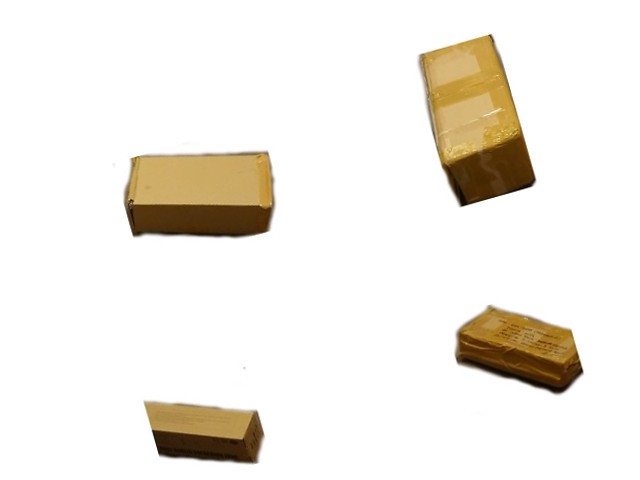cardboard: (421, 35, 535, 202), (125, 156, 271, 234), (461, 308, 574, 392), (155, 394, 261, 461)
